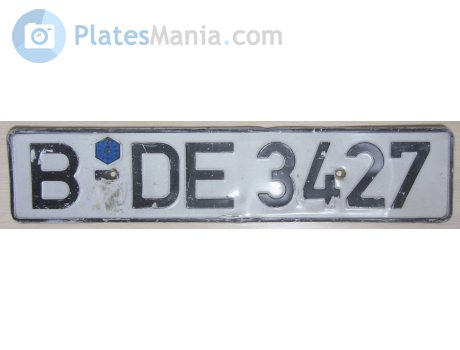License Plates: (28, 136, 430, 206)
